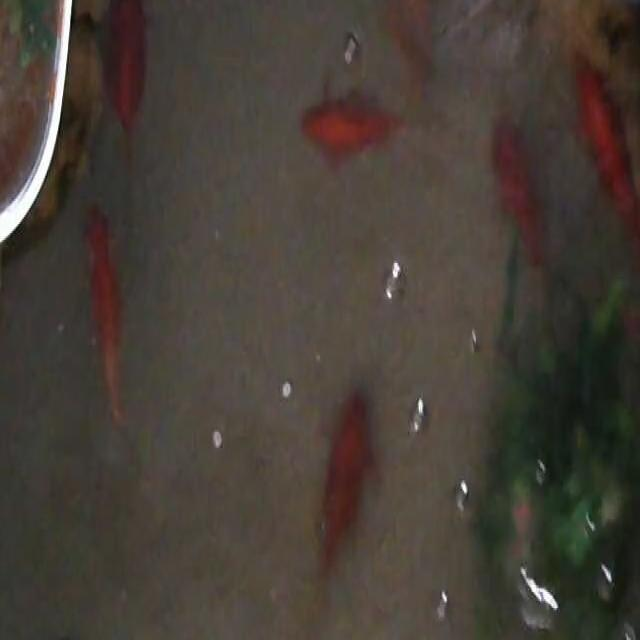fish: (571, 54, 640, 270), (316, 382, 378, 592), (83, 203, 129, 431), (491, 117, 548, 290), (297, 90, 409, 168), (103, 0, 147, 153)
